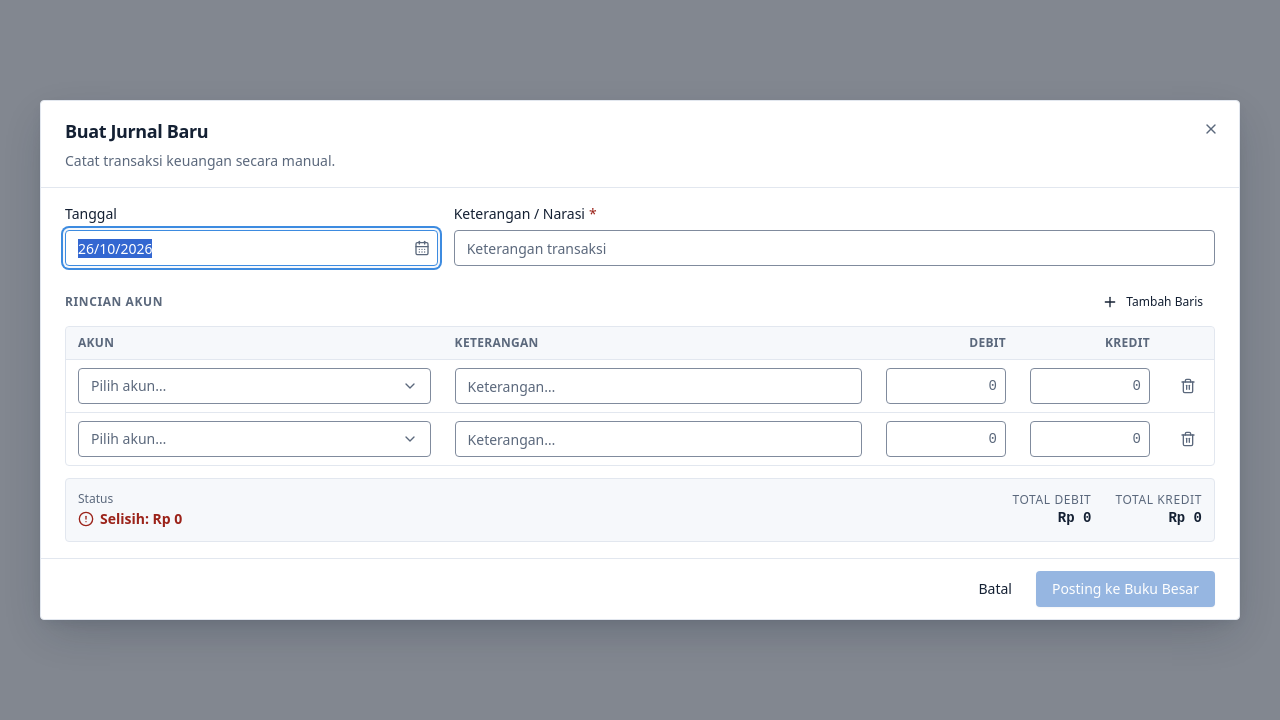
JournalEntryModal: pemilih akun dengan pencarian › memilih akun mengisi baris dan tampil di pemicu
Click the 1st dropdown labelled "Pilih akun…".
click(129, 386)  # box [78,368,431,404]
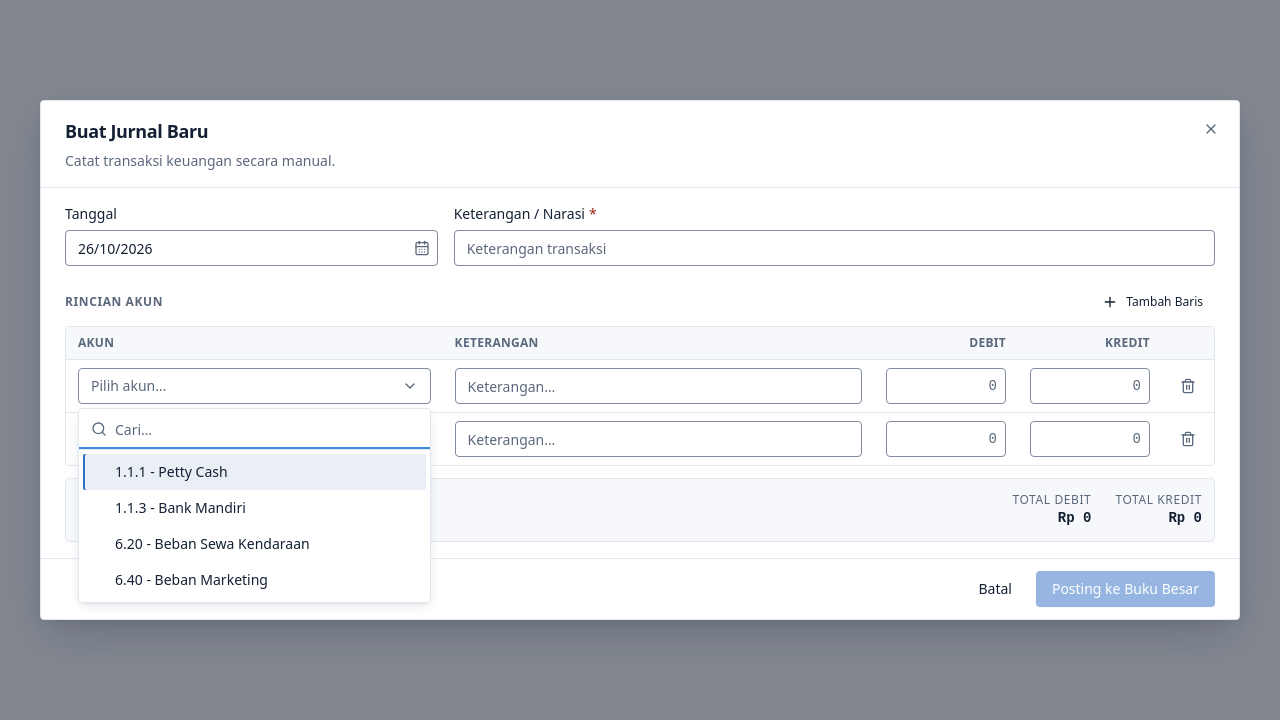
Type "sewa" into the dropdown with placeholder "Cari…".
click(266, 429); type("sewa")  # box [115,409,418,449]
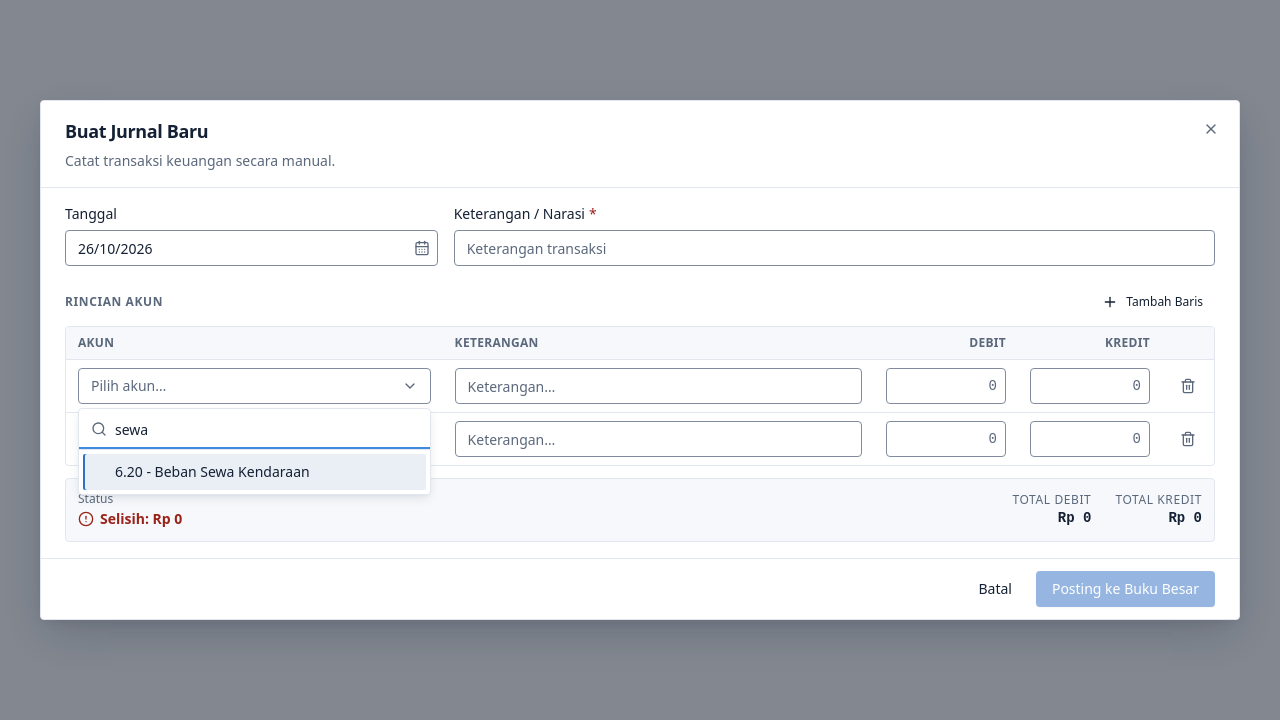
Click the option "6.20 - Beban Sewa Kendaraan".
click(254, 472)  # box [83,454,426,490]
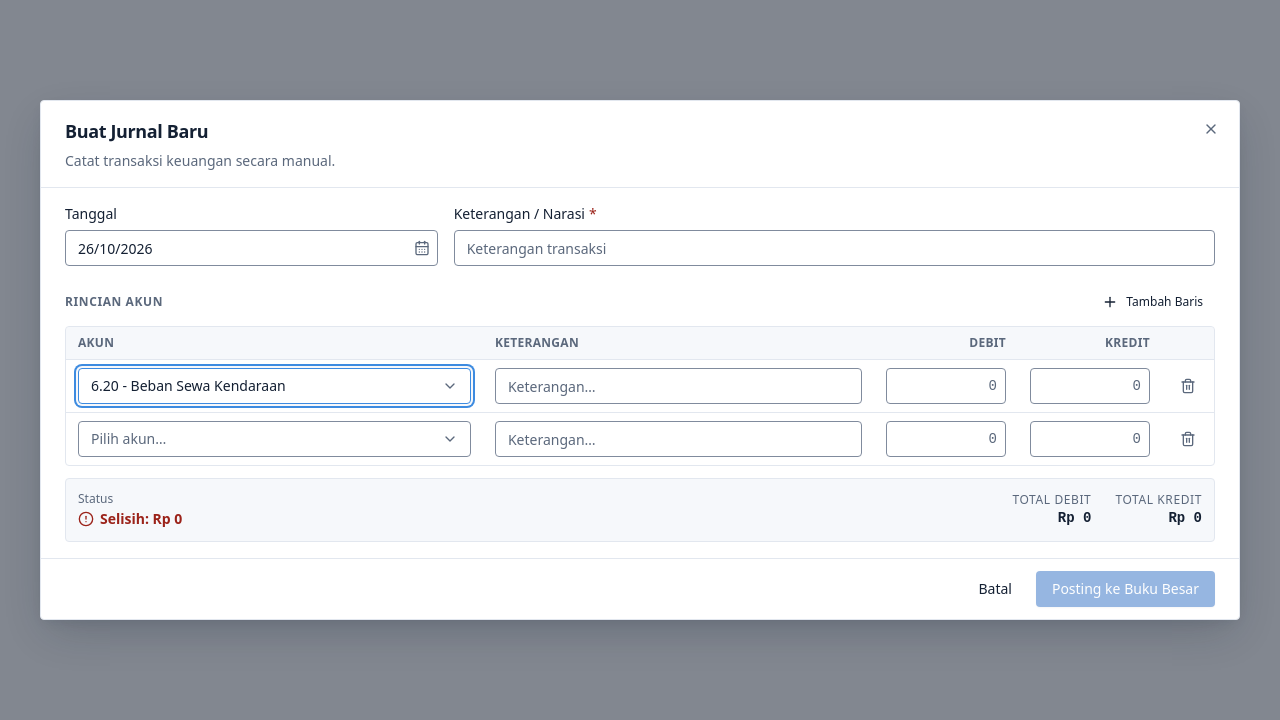
Result: the text "6.20 - Beban Sewa Kendaraan" is shown at [91,376,286,396]
